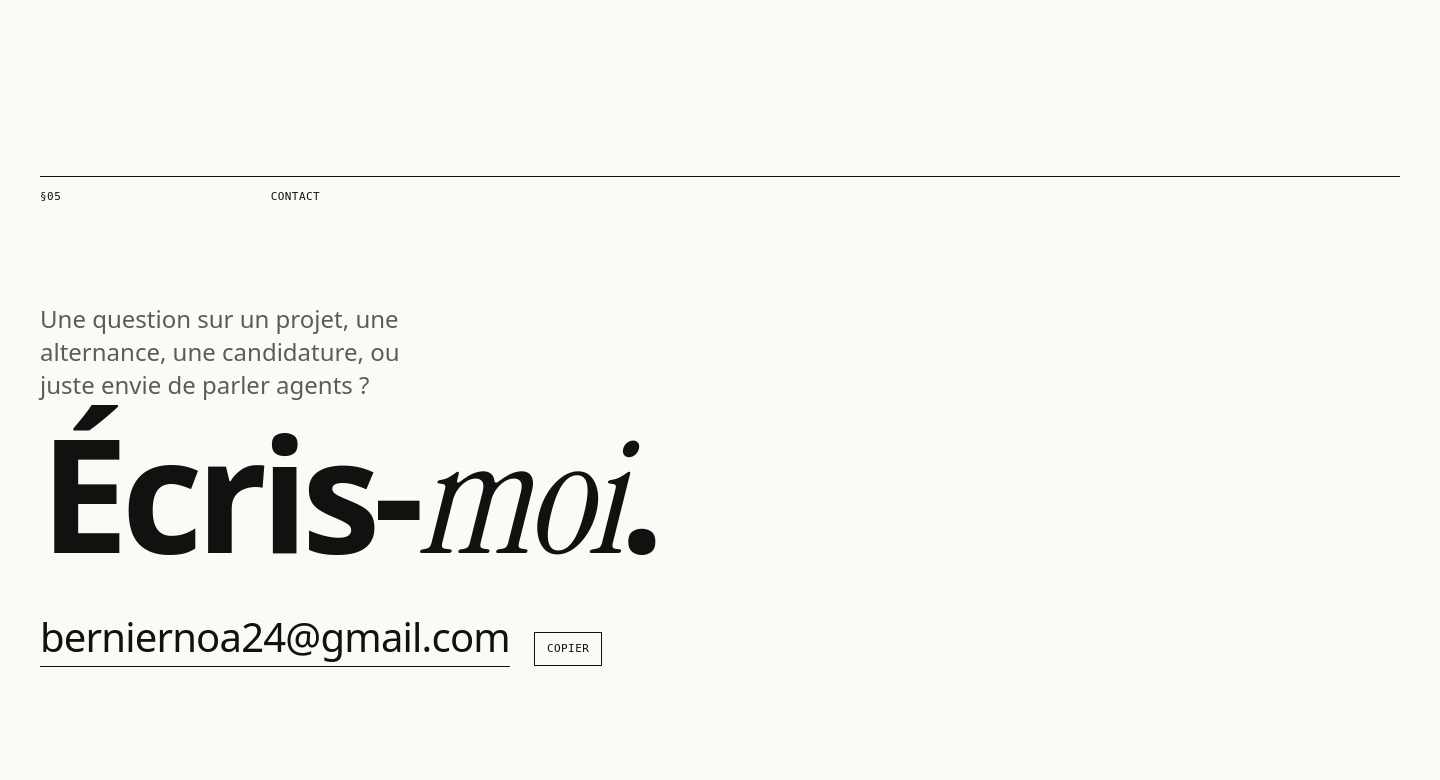
bouton Copier › affiche le message d’échec quand la permission est refusée, sans erreur
Click the button "Copier" at (568, 649), box [534,632,602,666]
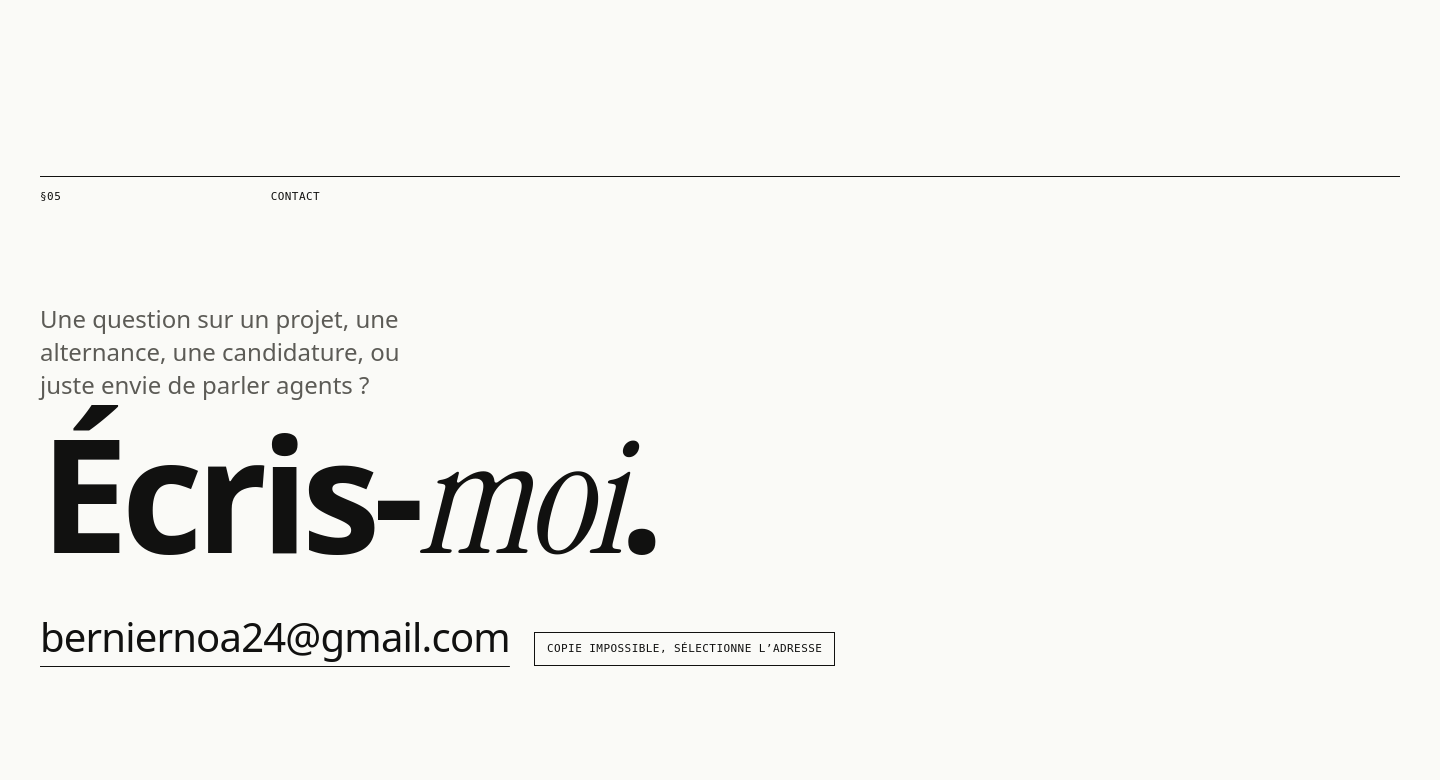
expect the button "Copie impossible, sélectionne l’adresse" is shown: met, box [534,632,835,666]
